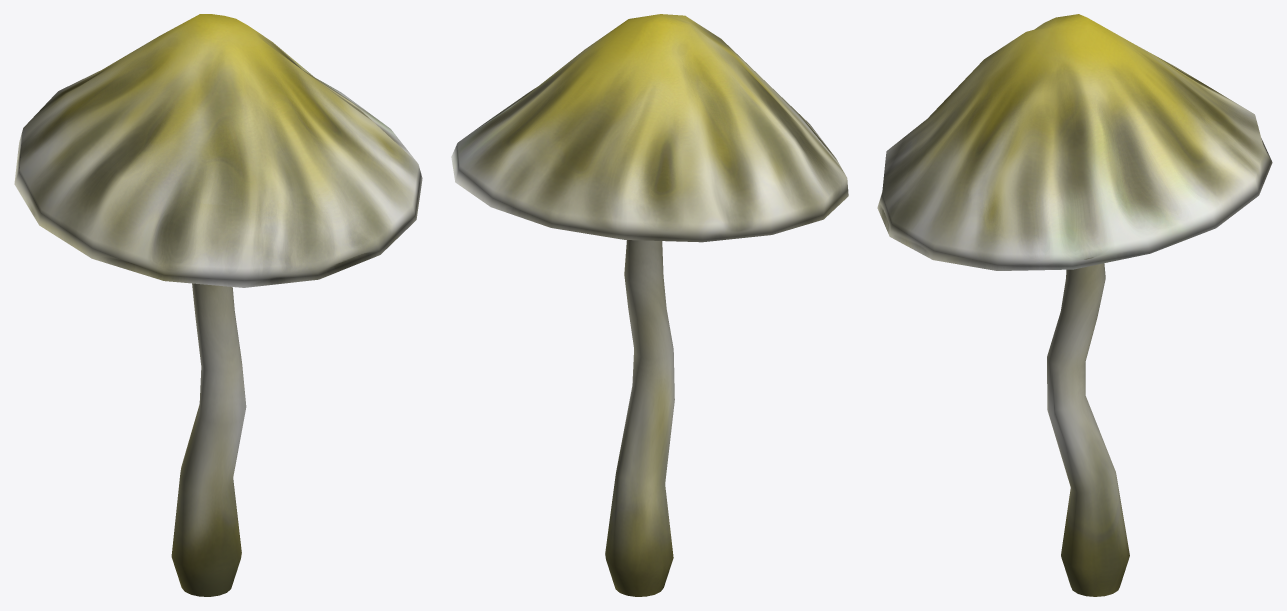
File: Mushroom.FBX
3 renders of one model, left to right at view 1: azimuth 30°, elevation 25°; view 2: azimuth 150°, elevation 25°; view 3: azimuth 270°, elevation 25°, orthographic. The views are drawn at different scales.
Parts seen in each view (by area): view 1: Mushroom; view 2: Mushroom; view 3: Mushroom.
Part boxes in pixels (bbox=[...]): Mushroom: bbox=[14, 14, 422, 596]; Mushroom: bbox=[451, 14, 848, 596]; Mushroom: bbox=[877, 14, 1272, 596].
Bounding box in the file's own units: 49.76 × 77.26 × 49.08.
